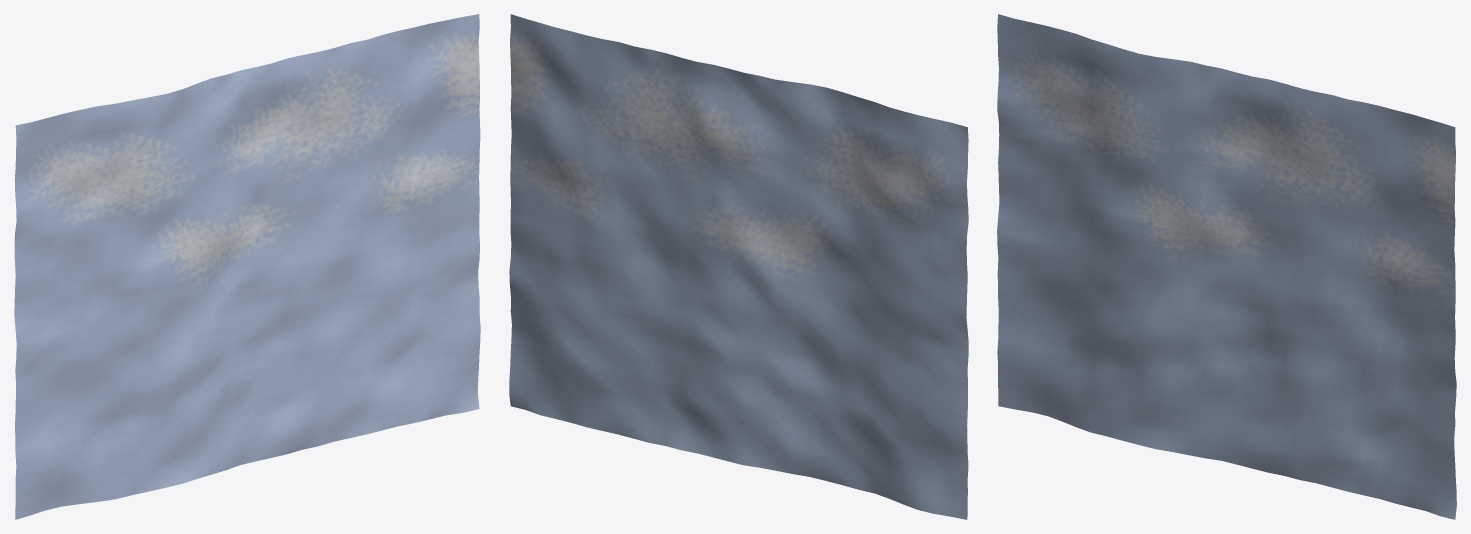
The model's file is backdrop.obj.
3 renders of one model, left to right at view 1: azimuth 30°, elevation 25°; view 2: azimuth 150°, elevation 25°; view 3: azimuth 330°, elevation 25°, orthographic.
Visible parts, largest first — view 1: Mesh_Grid_Grid.001; view 2: Mesh_Grid_Grid.001; view 3: Mesh_Grid_Grid.001.
Part boxes in pixels (left/top/right/bottom): Mesh_Grid_Grid.001: left=14, top=14, right=480, bottom=519; Mesh_Grid_Grid.001: left=509, top=14, right=968, bottom=519; Mesh_Grid_Grid.001: left=997, top=14, right=1456, bottom=519.
Size of the model in its own units: 10.96 by 8.95 by 0.3747.
